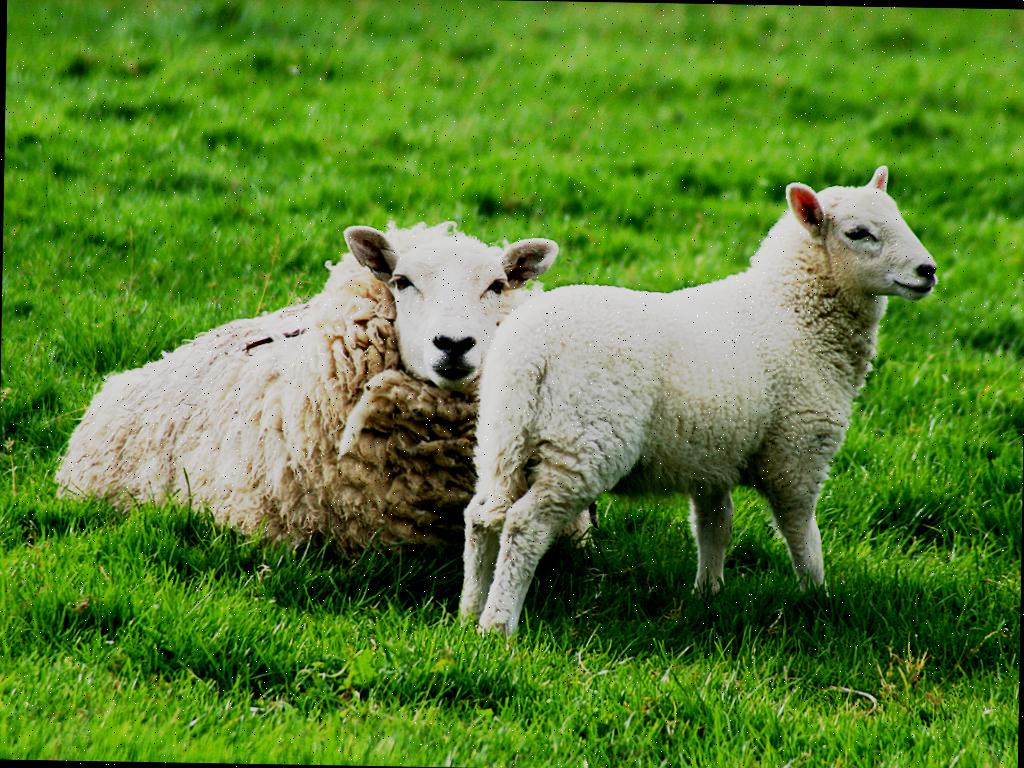Sheep: (464, 156, 948, 630), (50, 209, 603, 572)
